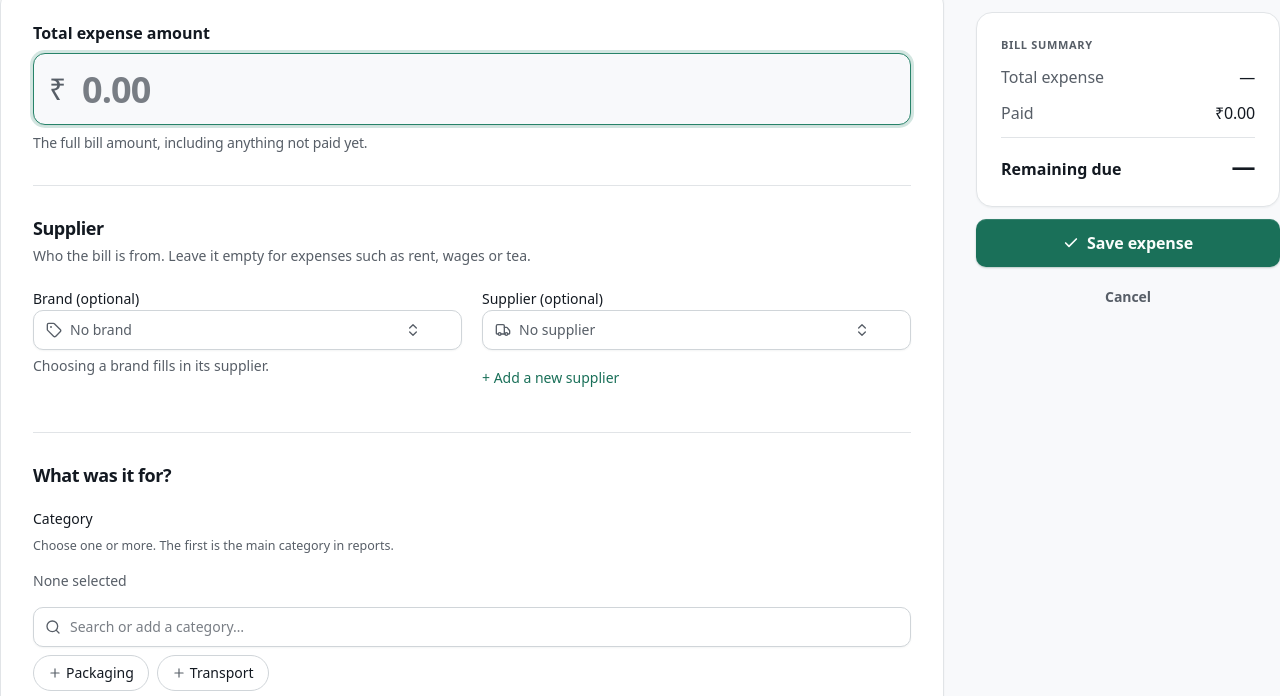
Test case: Add expense layout › a second payment method gets its own visible labels
The image size is (1280, 696).
Type "900" into the field labelled "Total expense amount" at (472, 89), box [33,53,911,125]
(page scrolled)
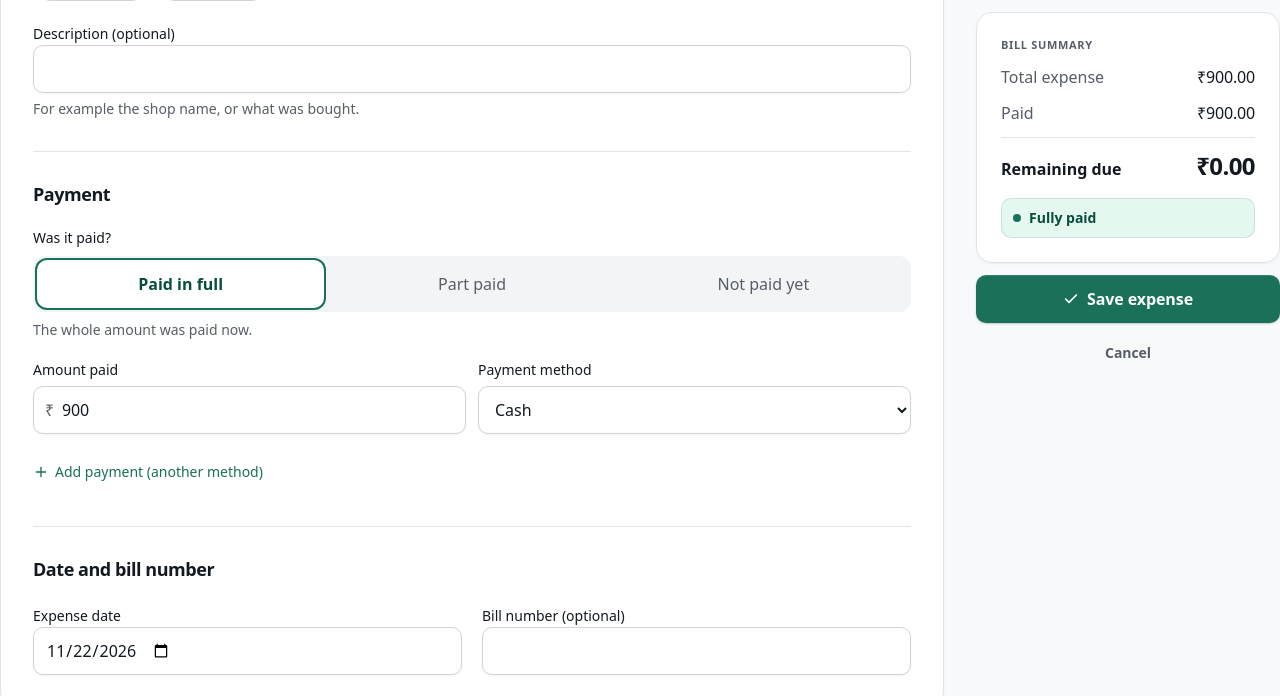
Click the button "Add payment (another method)" at (148, 472), box [33,450,263,494]
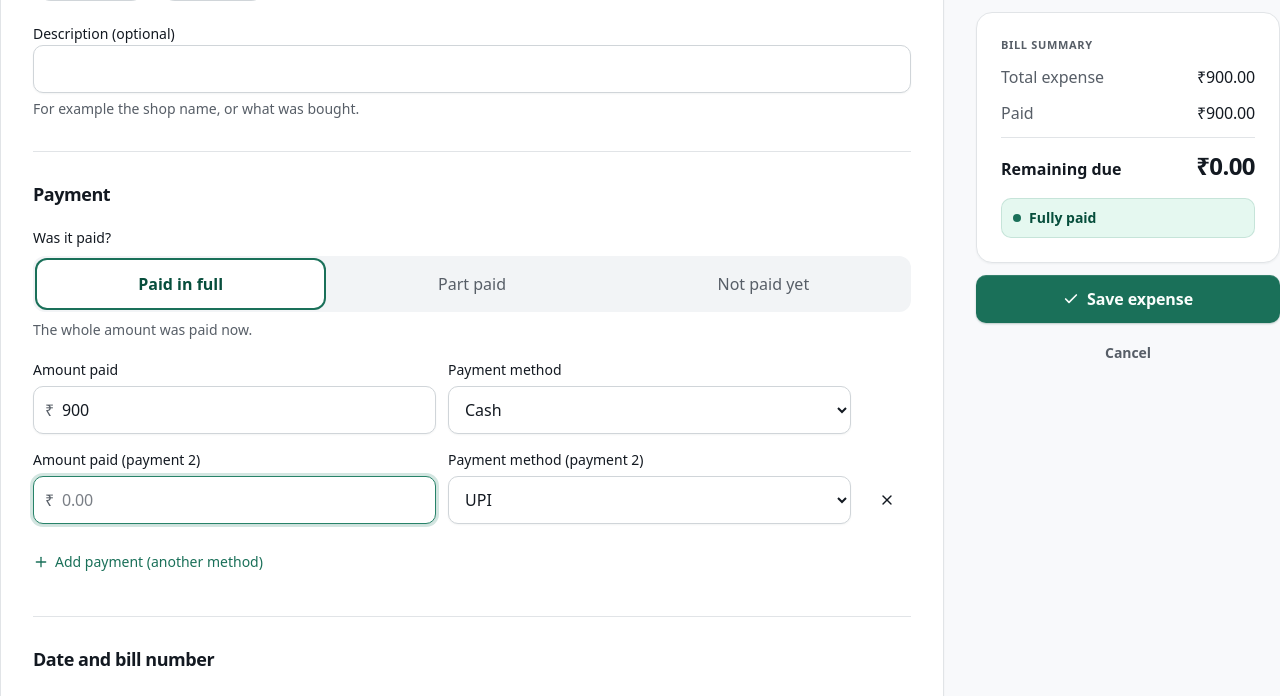
Result: the field labelled "Amount paid (payment 2)" is shown at [33,476,436,524]
Result: the dropdown labelled "Payment method (payment 2)" is shown at [448,476,851,524]
